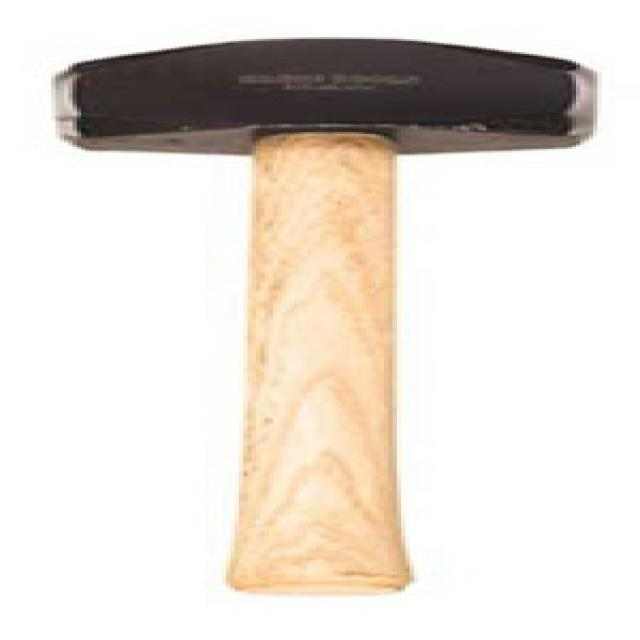hammer: (18, 29, 618, 606)
